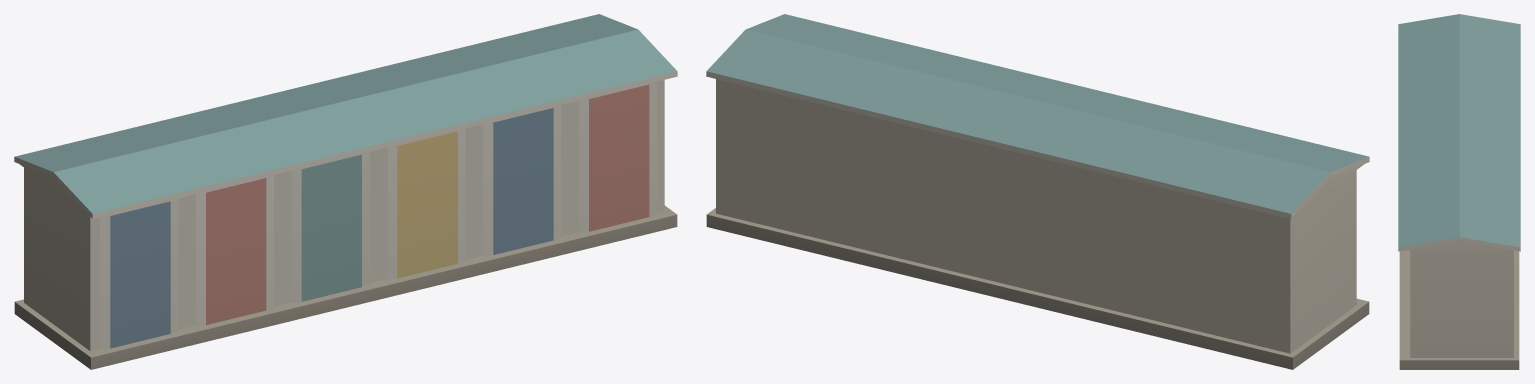
The model's file is cubicles.lod2.glb.
3 renders of one model, left to right at view 1: azimuth 30°, elevation 25°; view 2: azimuth 150°, elevation 25°; view 3: azimuth 270°, elevation 25°, orthographic. The views are drawn at different scales.
Bounding box in the file's own units: 7.96 × 2.2 × 1.84.
